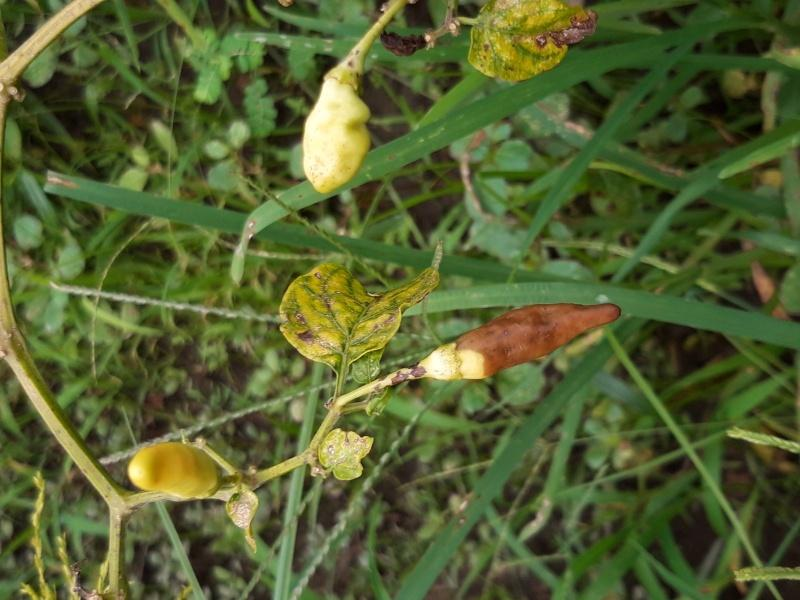cabai_normal: (303, 84, 370, 193), (126, 443, 218, 495)
lalat_buah: (454, 302, 621, 378)
